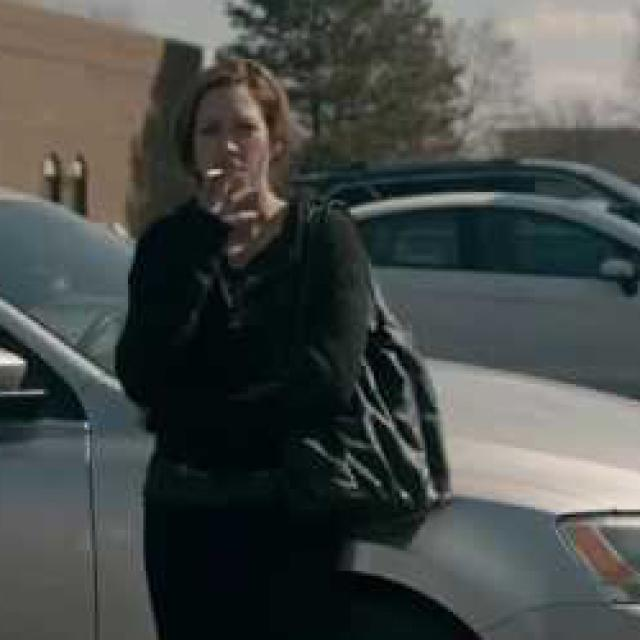Smooking: (197, 162, 226, 185)
